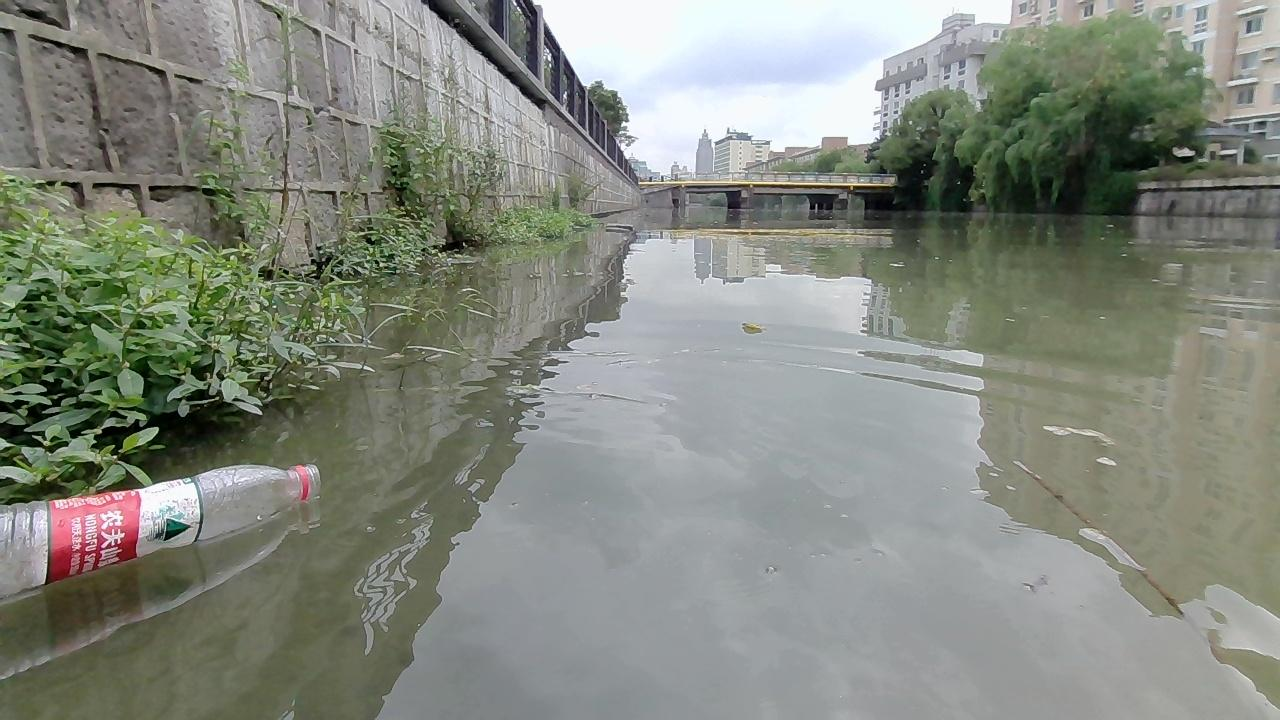bottle: (0, 456, 322, 606)
